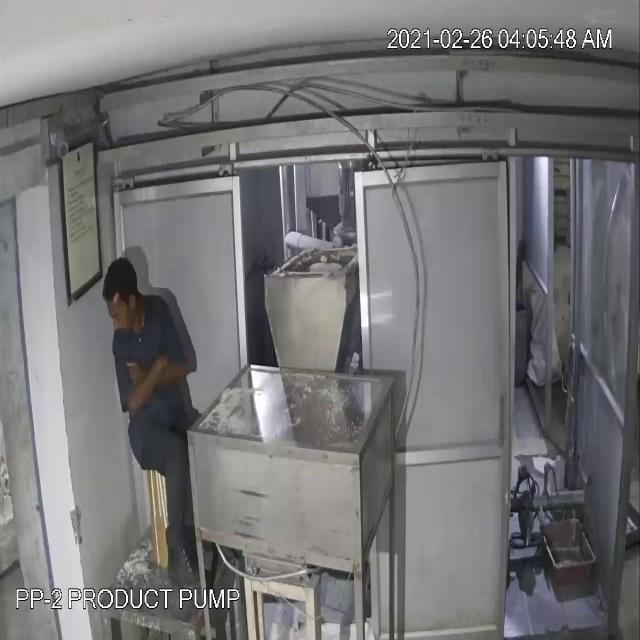no hat: (99, 244, 148, 329)
